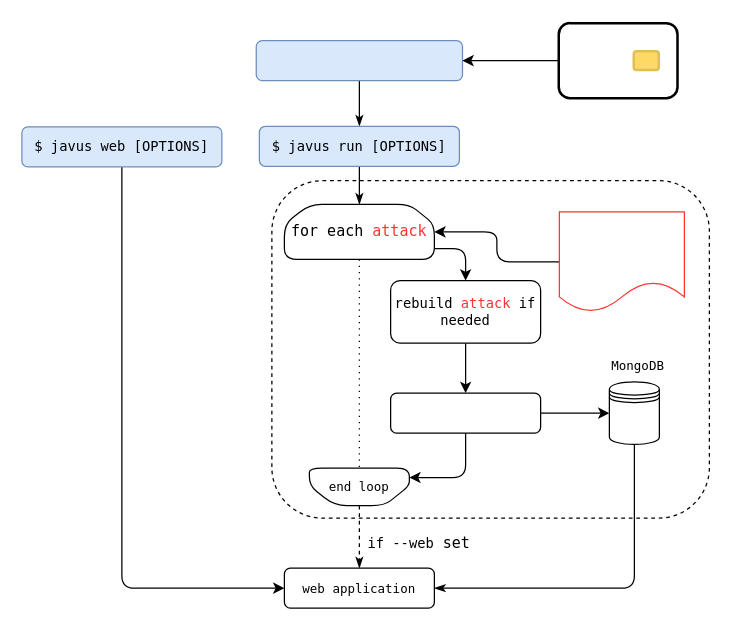
This 731x630 diagram has some shape labels left out. Each missing label, with the centre of its shape:
"#registry.ini arraycopy arrayops baload_bastore ..." goes at point 621,261.
"execute attack" goes at point 465,412.
"insert a single JavaCard" goes at point 358,60.
